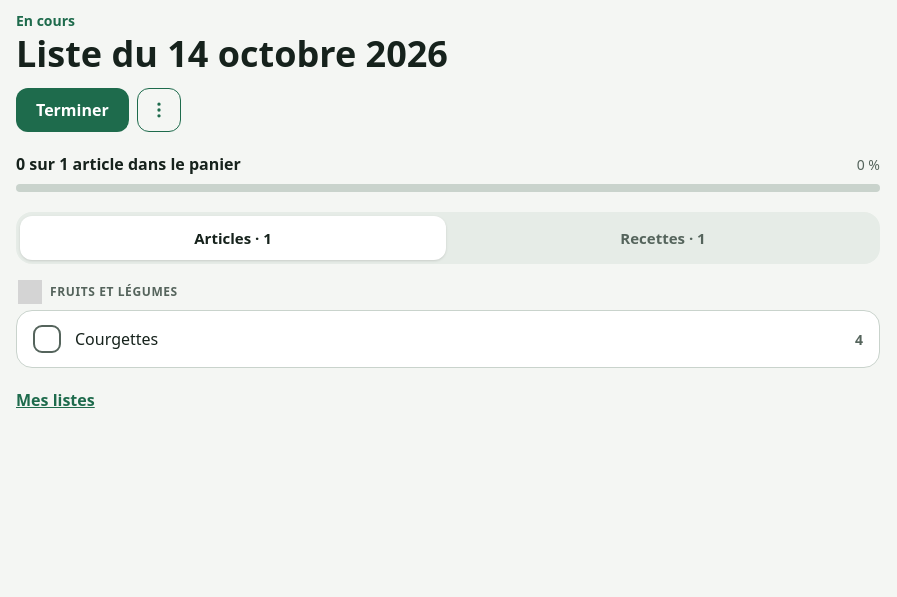
Test: ShoppingListView › garde la liste à l'écran quand cocher la dernière ligne la termine, et propose d'en commencer une
Click the checkbox: (47, 339) [33,325,61,353]
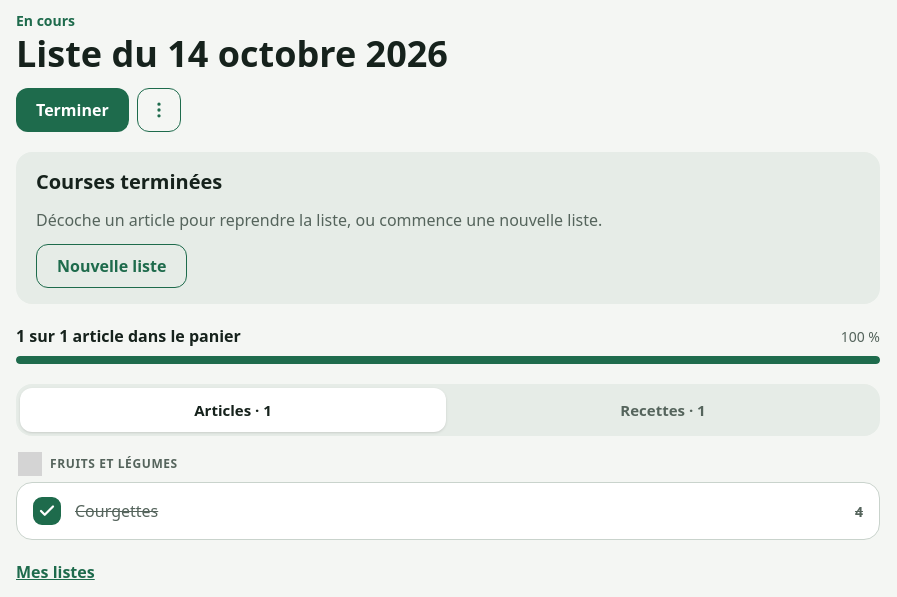
Expected: the heading "Liste du 14 octobre 2026" is shown, [16,29,448,78]
Now the text "Courses terminées" is shown, box [36,168,222,196]
